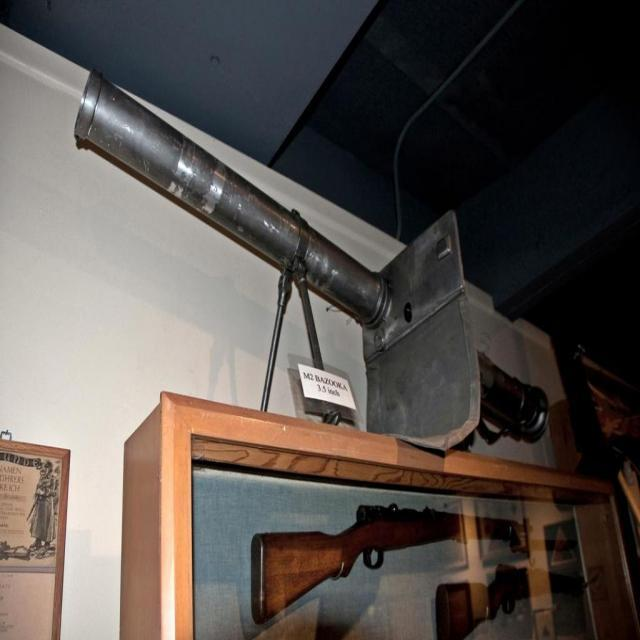weapon: (31, 56, 568, 594), (250, 496, 534, 630), (436, 556, 598, 640)
